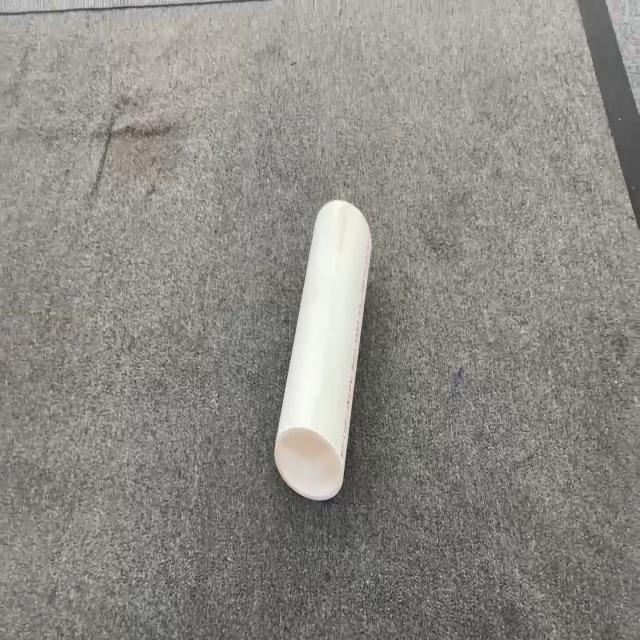coral: (273, 198, 372, 502)
